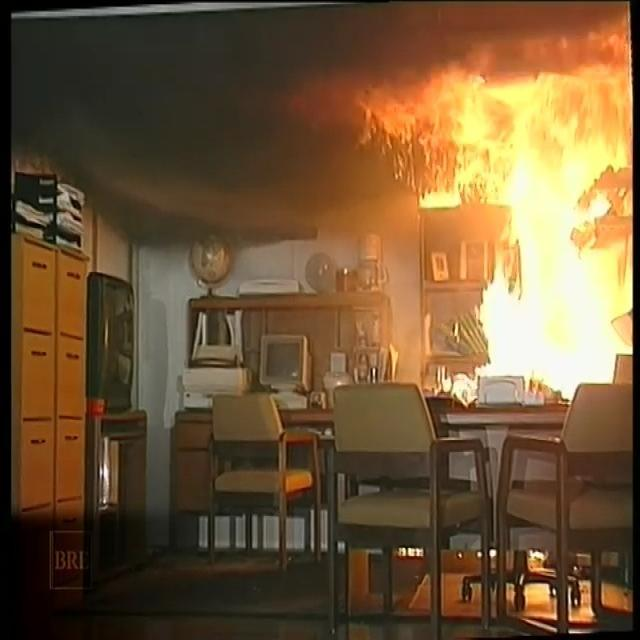Fire: (340, 1, 634, 448)
